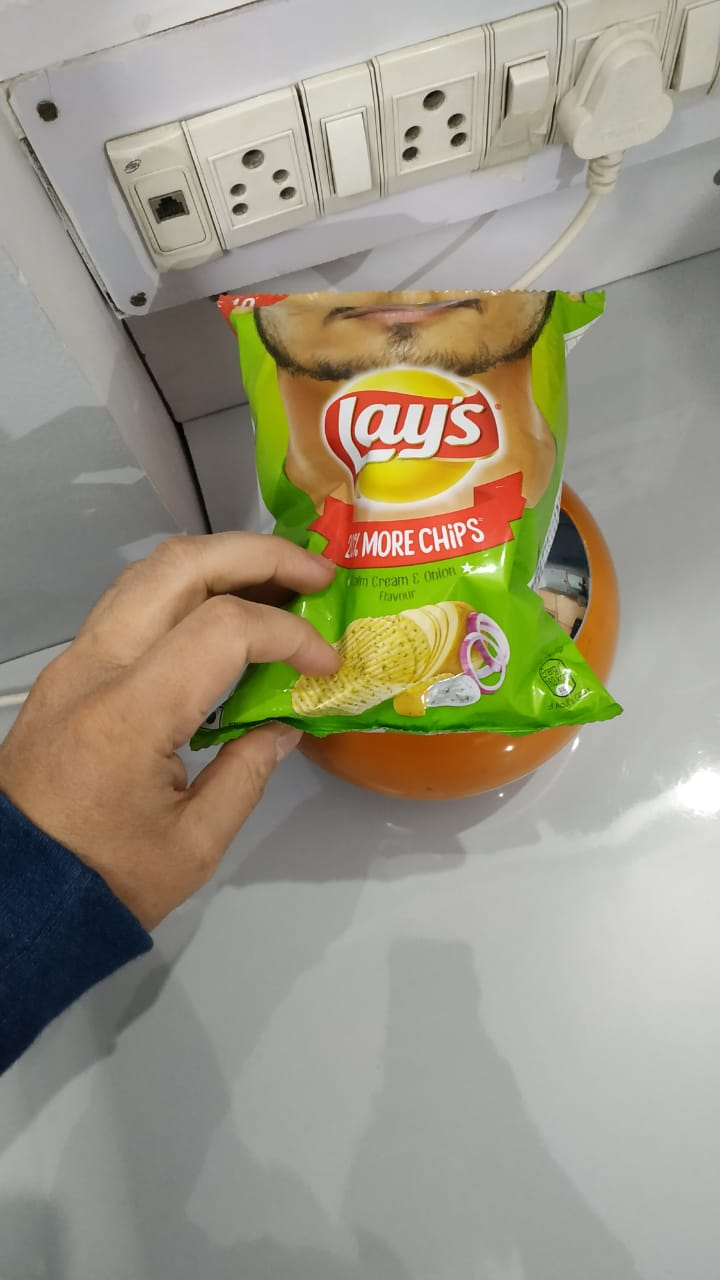lays chips: (211, 278, 605, 723)
